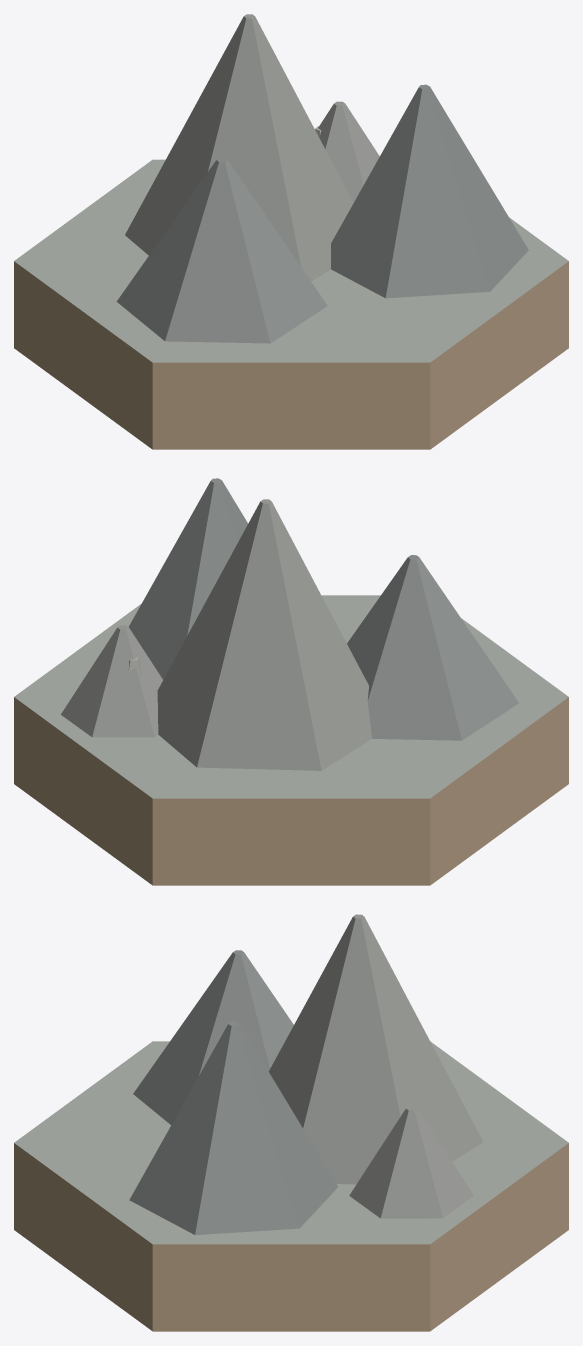
Rendered from stone-mountain-3.glb.
3 views of the same model, one above another, from view 1: azimuth 30°, elevation 25°; view 2: azimuth 150°, elevation 25°; view 3: azimuth 270°, elevation 25° (orthographic).
Parts seen in each view (by area): view 1: rough_mountain_hex_base, dark_ridge_1, dark_ridge_2, dark_ridge_0, dark_ridge_3; view 2: rough_mountain_hex_base, dark_ridge_1, dark_ridge_0, dark_ridge_2, dark_ridge_3; view 3: rough_mountain_hex_base, dark_ridge_1, dark_ridge_2, dark_ridge_0, dark_ridge_3.
Part boxes in pixels (left/top/right/bottom): rough_mountain_hex_base: left=14, top=159, right=568, bottom=449; dark_ridge_1: left=125, top=14, right=353, bottom=281; dark_ridge_2: left=331, top=84, right=528, bottom=298; dark_ridge_0: left=116, top=158, right=327, bottom=343; dark_ridge_3: left=318, top=101, right=379, bottom=202; rough_mountain_hex_base: left=14, top=595, right=568, bottom=885; dark_ridge_1: left=157, top=499, right=371, bottom=770; dark_ridge_0: left=347, top=555, right=518, bottom=740; dark_ridge_2: left=129, top=478, right=247, bottom=679; dark_ridge_3: left=61, top=625, right=162, bottom=737; rough_mountain_hex_base: left=14, top=1041, right=568, bottom=1331; dark_ridge_1: left=268, top=914, right=482, bottom=1184; dark_ridge_2: left=129, top=1021, right=337, bottom=1235; dark_ridge_0: left=133, top=950, right=293, bottom=1124; dark_ridge_3: left=349, top=1106, right=473, bottom=1218.
Bounding box in the file's own units: 1 × 0.71 × 1.15.
